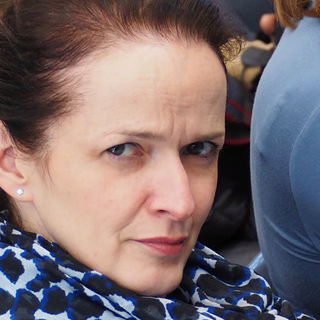eye: (98, 139, 147, 164), (176, 136, 216, 164)
